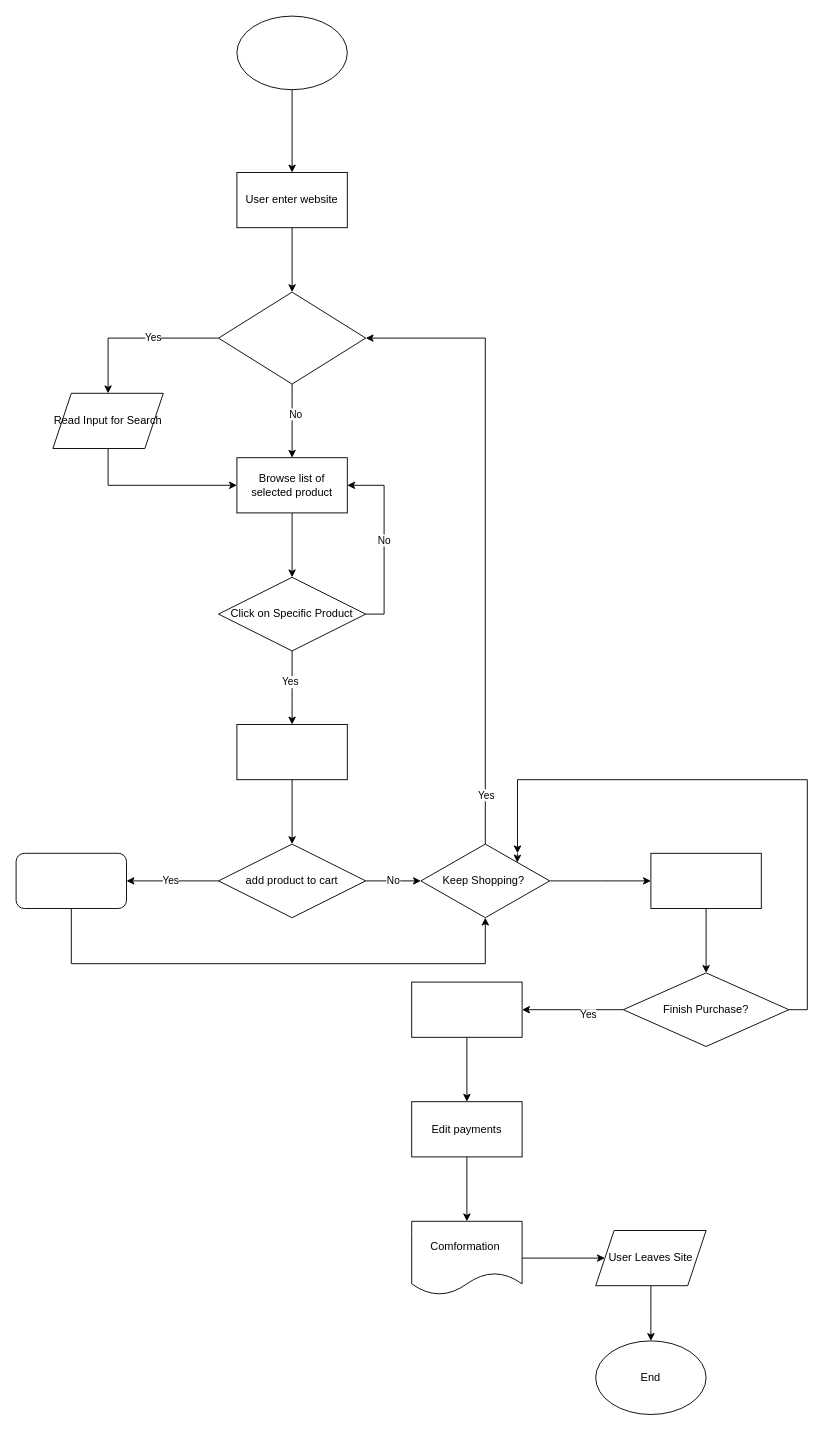
Image size: 831x1431. Some labels were removed from this diagram. Here are the shapes that lost their labels. From the top down, the centre of each, then its label:
At point 291,52: "Start".
At point 292,337: "Search for specific product".
At point 291,752: "Open product page".
At point 70,880: "collect data".
At point 705,880: "View Cart".
At point 466,1009: "Verify Purchase".
